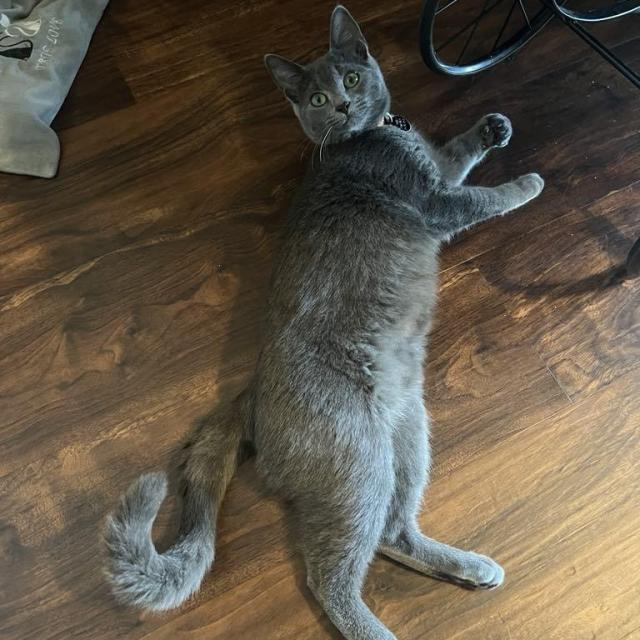russian_blue_cat: (251, 0, 420, 160)
